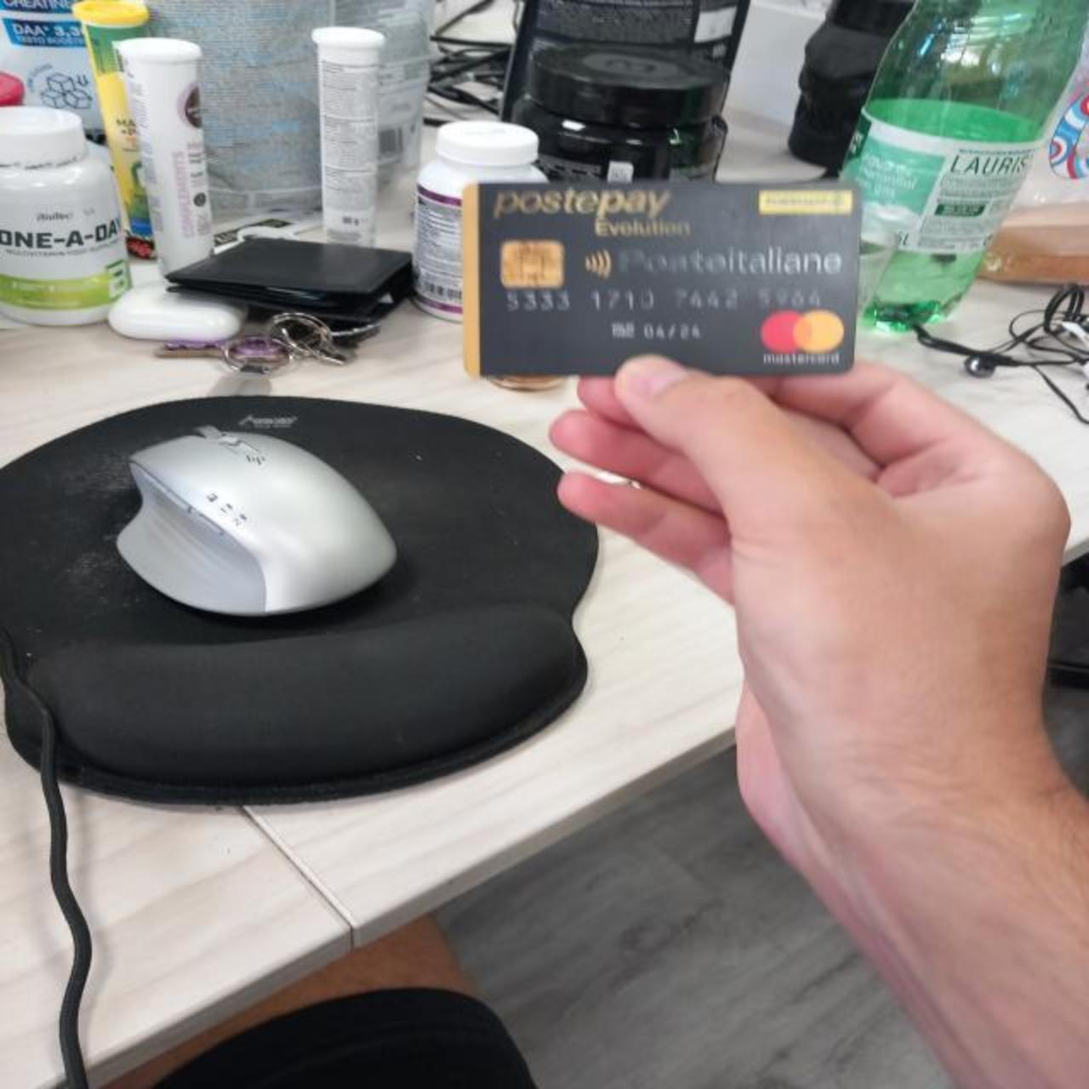credit_card: (463, 174, 881, 388)
